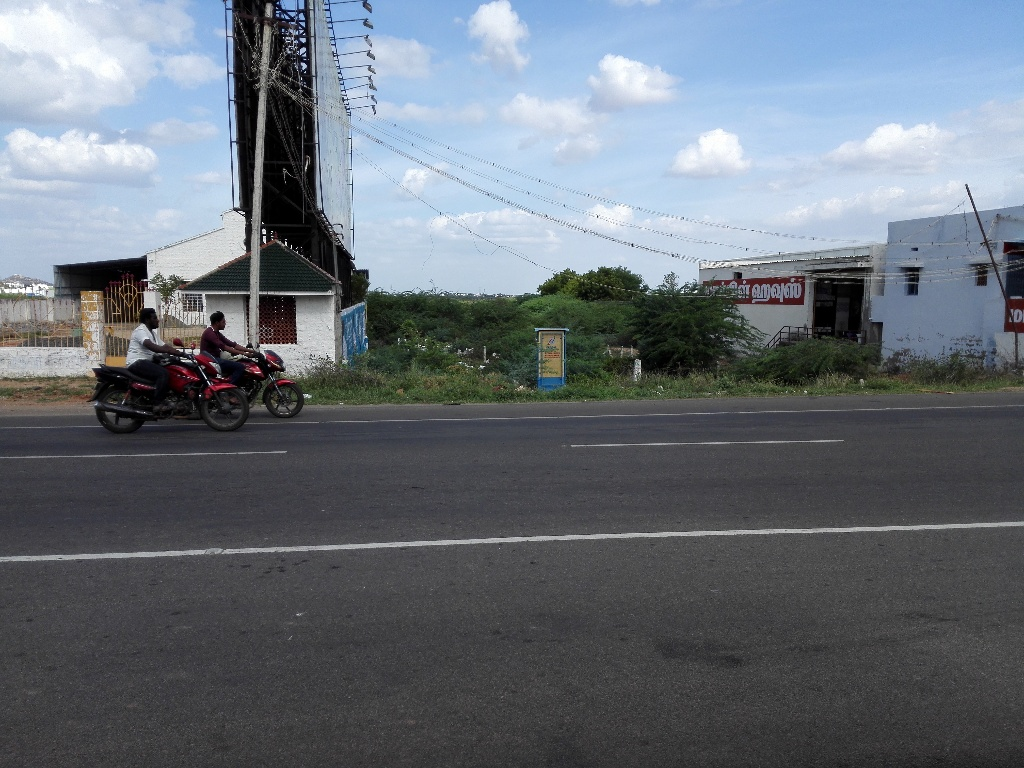biker: (79, 266, 250, 446), (186, 282, 311, 443)
nohelmet: (130, 298, 170, 342), (202, 308, 235, 338)
